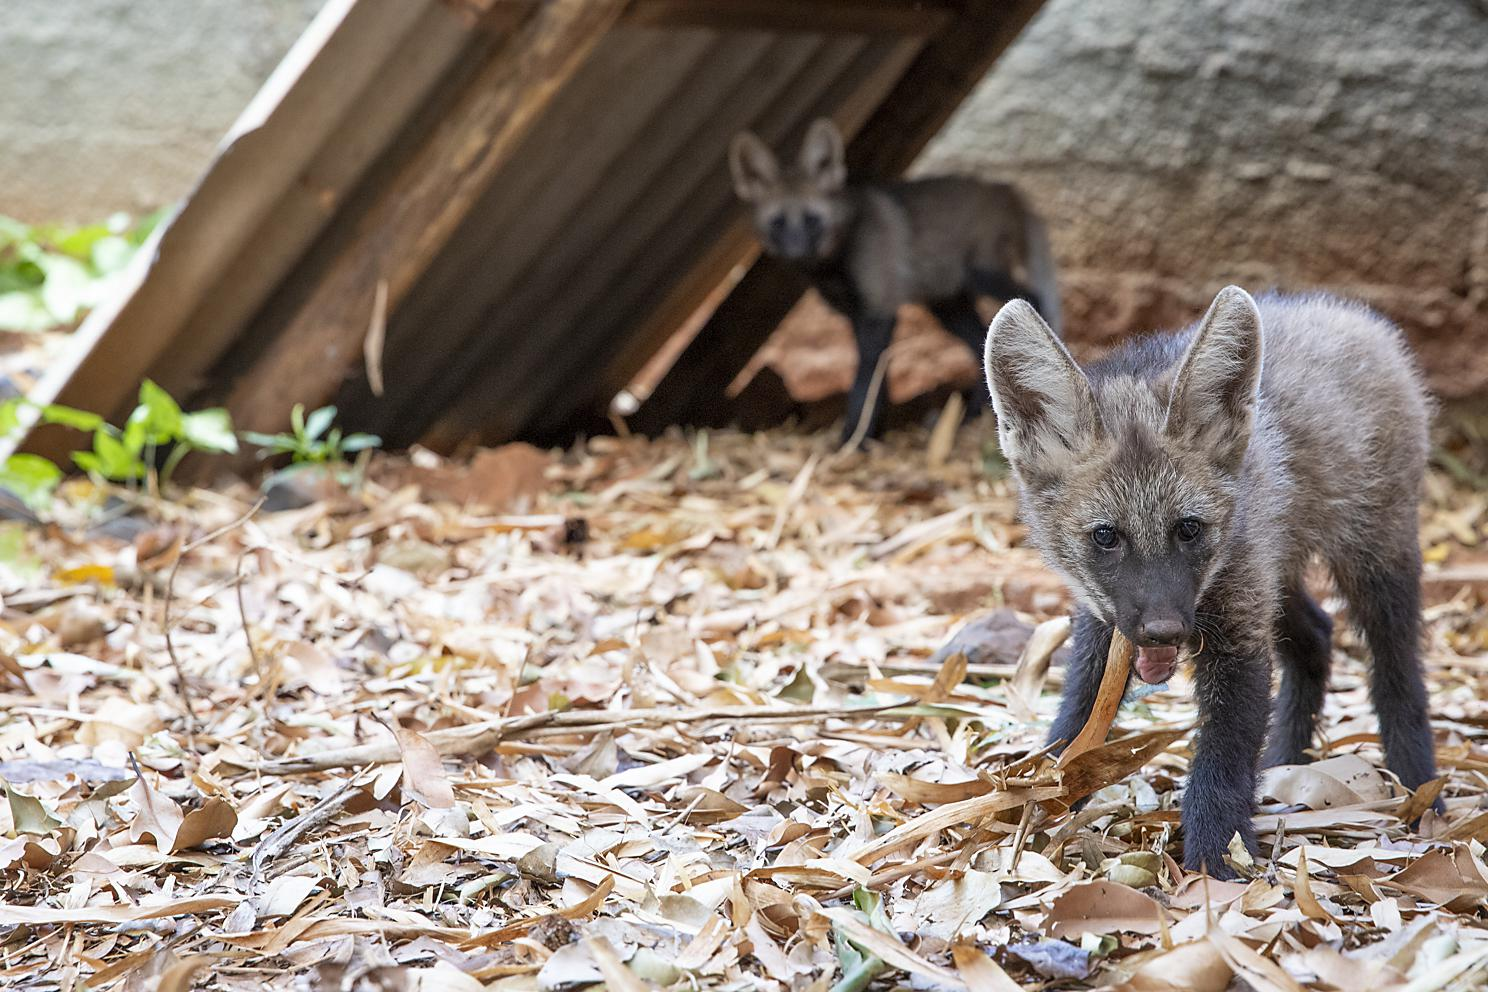LoboGuara: (1008, 278, 1456, 891), (709, 110, 1068, 447)
